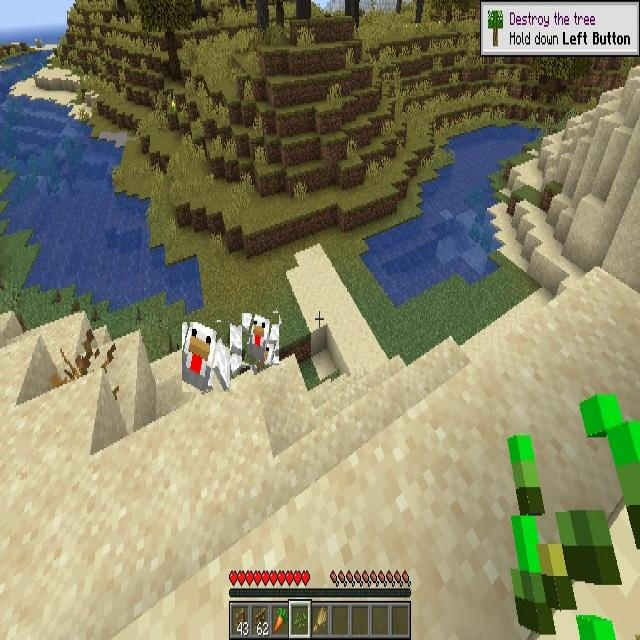duck: (182, 322, 230, 392), (242, 314, 279, 366)
